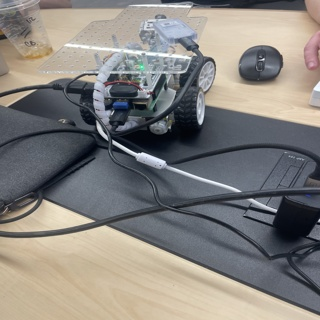vehicle: (38, 4, 216, 134)
